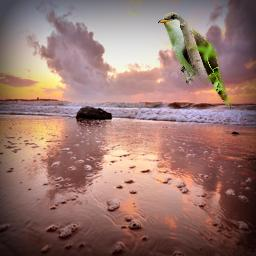Cuckoo: (155, 12, 236, 110)
